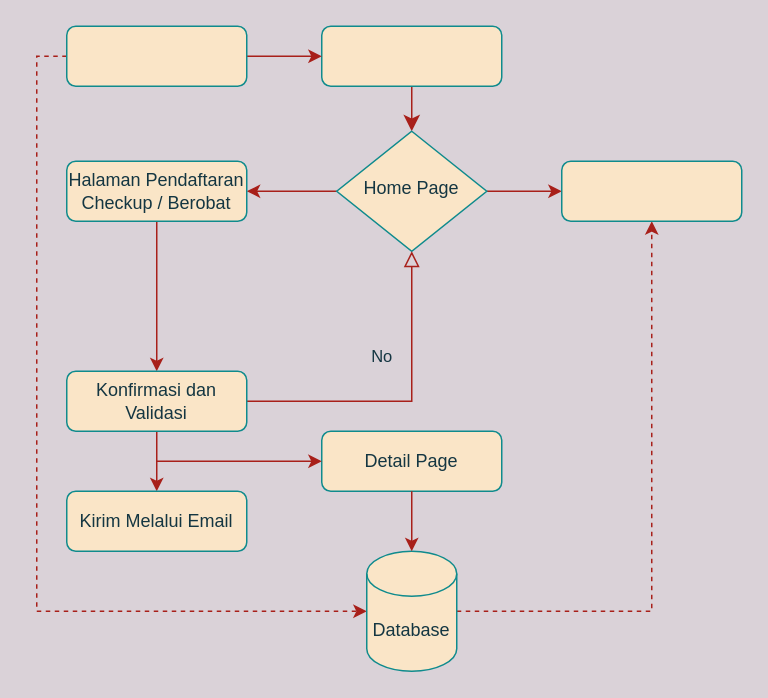
Image size: 768x698. Some labels were removed from this diagram. Here are the shapes that lost their labels. From the top down, the centre of each, then its label:
the point at 156,55: Register
the point at 411,55: Login
the point at 651,190: History Checkup / Berobat
